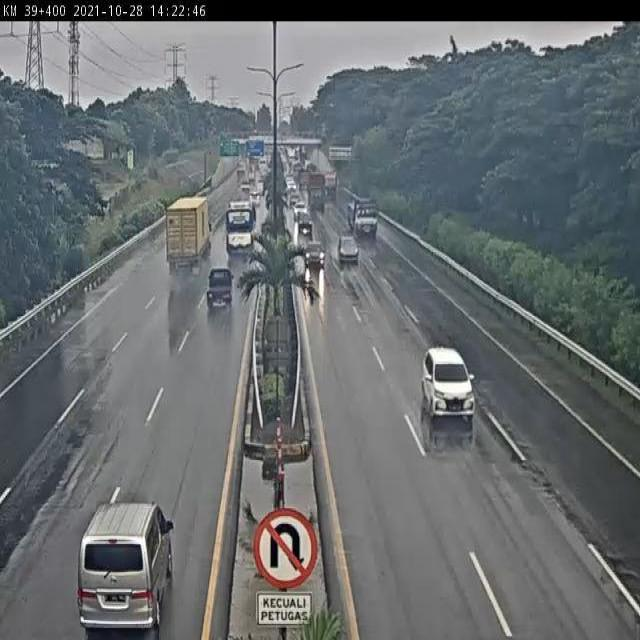big bus: (224, 198, 258, 254)
car: (422, 346, 478, 426), (207, 265, 237, 307), (303, 237, 326, 271)
truck-xl-: (164, 194, 210, 270)
